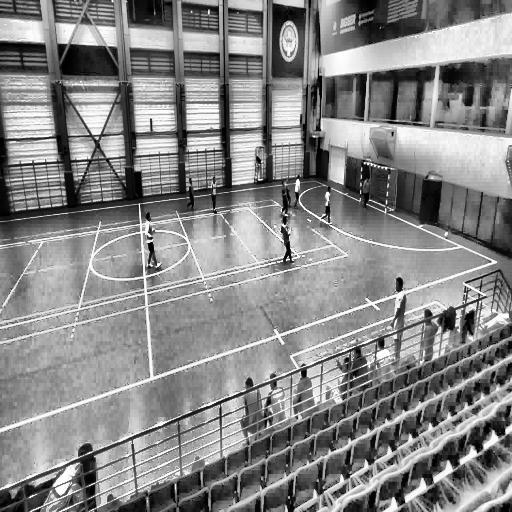ball: (443, 228, 450, 242)
player: (390, 277, 405, 359), (143, 211, 161, 270), (281, 215, 293, 265), (322, 184, 331, 224), (360, 174, 370, 208), (292, 175, 302, 209), (186, 176, 195, 210), (280, 181, 288, 217), (210, 175, 217, 213), (284, 178, 292, 208)
